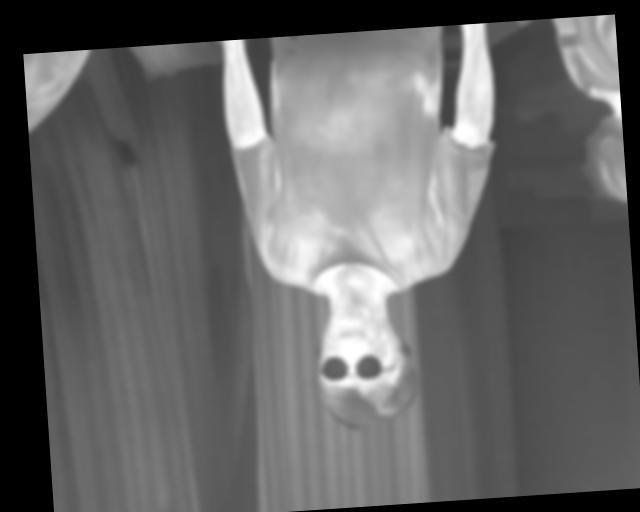face: (312, 300, 418, 432)
